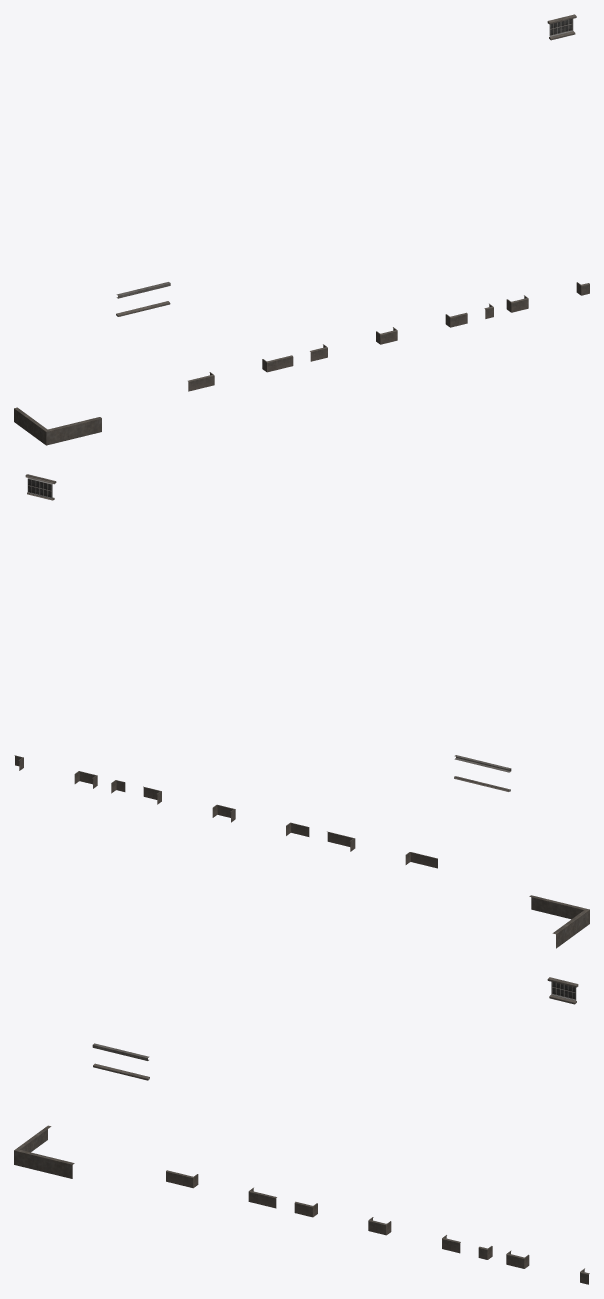
File: modular_factory_facade_apex.gltf
3 renders of one model, top to bottom at view 1: azimuth 30°, elevation 25°; view 2: azimuth 150°, elevation 25°; view 3: azimuth 330°, elevation 25°, orthographic. The views are drawn at different scales.
Visible parts, largest first — view 1: base_standard_corner_large_01, dado_garage_double_01, dado_garage_centered_01; view 2: base_standard_corner_large_01, dado_garage_double_01, dado_garage_centered_01; view 3: base_standard_corner_large_01, dado_garage_double_01, dado_garage_centered_01, dado_garage_door_01, window_centered_medium_03.
Boxes of the visible parts, x1,y1,x2,y2 form: base_standard_corner_large_01: (14, 407, 101, 445); dado_garage_double_01: (310, 312, 467, 361); dado_garage_centered_01: (188, 355, 293, 391); base_standard_corner_large_01: (529, 895, 589, 948); dado_garage_double_01: (143, 786, 309, 836); dado_garage_centered_01: (327, 831, 437, 868); base_standard_corner_large_01: (14, 1125, 74, 1178); dado_garage_double_01: (294, 1201, 460, 1253); dado_garage_centered_01: (166, 1170, 276, 1208); dado_garage_door_01: (478, 1246, 589, 1284); window_centered_medium_03: (547, 977, 578, 1004).
Bounding box in the file's own units: 31.2 × 16.36 × 3.2.
4 materials, 4 textured.
